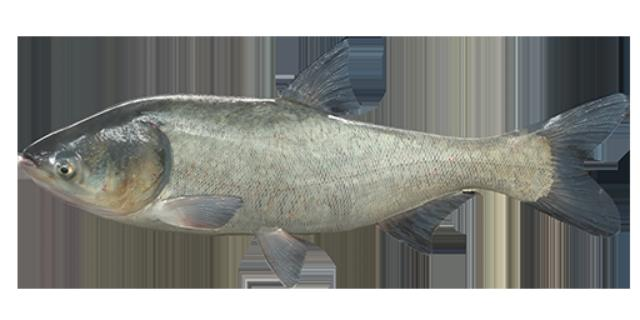Mulut: (9, 132, 47, 186)
Sirip Anal: (379, 184, 477, 256)
Sirip Dada: (152, 180, 242, 236)
Sirip Ekor: (534, 88, 628, 244)
Sirip Perut: (256, 214, 314, 292)
Sirip Punggung: (277, 26, 367, 122)
